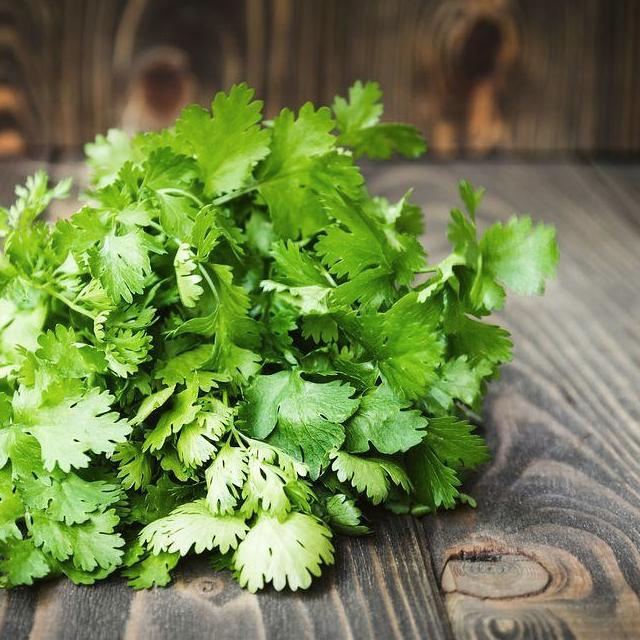cilantro: (0, 76, 560, 594)
